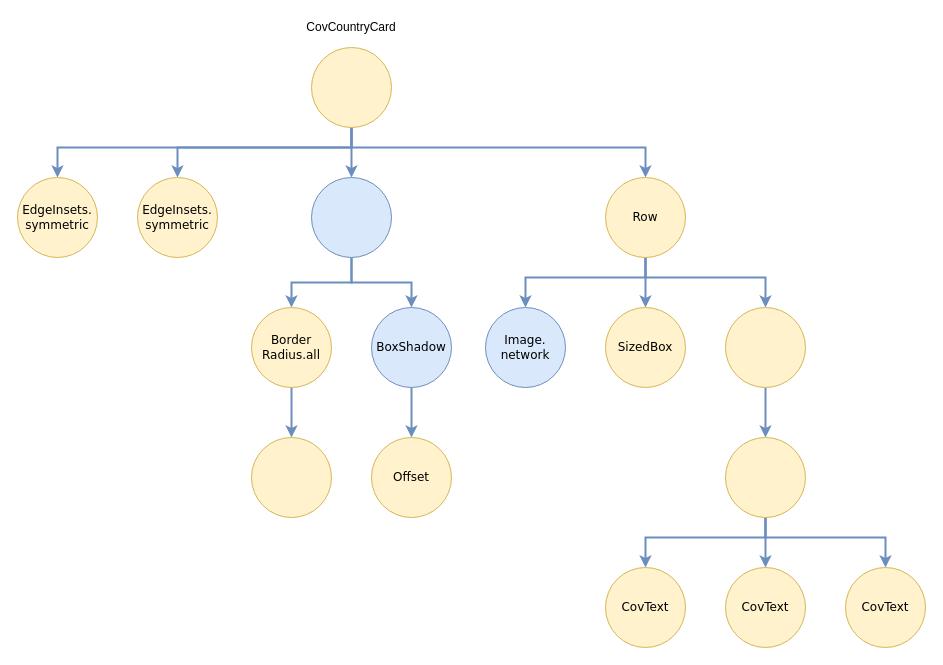
Image size: 943x665. Some labels were removed from this diagram. Here are the shapes that lost their labels. From the top down, the centre of each, then its label:
At (x=351, y=87): "Container".
At (x=351, y=217): "Box Decotration".
At (x=765, y=347): "Flexible".
At (x=291, y=477): "Radius. Circular".
At (x=765, y=477): "Column".
